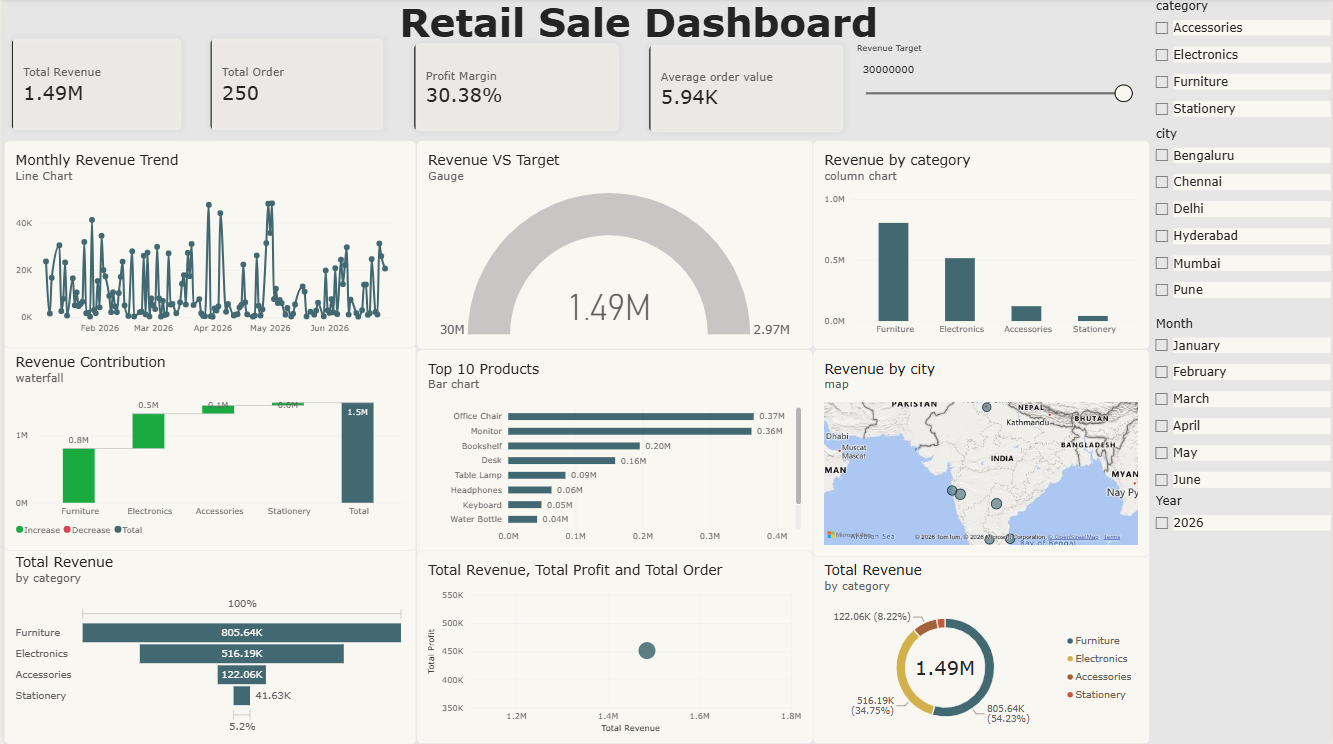

The dashboard page shown, as its layout file describes it:
{"tool":"powerbi","page":{"name":"power bi feature lab","canvas":[1920,1080],"ordinal":7},"visuals":[{"type":"funnel","fields":{"Category":["retail_sales.category"],"Y":["retail_sales.Total Revenue"]},"box":[0,788.3,596.9,292.3],"z":0},{"type":"slicer","fields":{"Values":["Revenue Target.Revenue Target"]},"box":[1226.8,65.9,409.6,140],"z":1000},{"type":"gauge","title":"Revenue VS Target ","fields":{"MinValue":["Revenue Target.Revenue Target Value"],"Y":["retail_sales.Total Revenue"]},"box":[596.9,205.8,574.3,302.6],"z":2000},{"type":"waterfallChart","title":"Revenue Contribution","fields":{"Category":["retail_sales.category"],"Y":["retail_sales.Total Revenue"]},"box":[0,500.2,596.9,300.5],"z":3000},{"type":"lineChart","title":"Monthly Revenue Trend","fields":{"Category":["Date.Date"],"Y":["retail_sales.Total Revenue"]},"box":[0,205.8,596.9,300.5],"z":4000},{"type":"clusteredColumnChart","title":"Revenue by category","fields":{"Category":["retail_sales.category"],"Y":["retail_sales.Total Revenue"]},"box":[1171.2,205.8,487.8,302.6],"z":5000},{"type":"clusteredBarChart","title":"Top 10 Products","fields":{"Category":["retail_sales.product"],"Y":["retail_sales.Total Revenue"]},"box":[596.9,508.4,574.3,300.5],"z":6000},{"type":"donutChart","fields":{"Category":["retail_sales.category"],"Y":["retail_sales.Total Revenue"]},"box":[1171.2,800.7,487.8,279.9],"z":7000},{"type":"map","title":"Revenue by city","fields":{"Category":["retail_sales.city"],"Size":["retail_sales.Total Revenue"]},"box":[1171.2,508.4,487.8,300.5],"z":8000},{"type":"scatterChart","fields":{"Size":["retail_sales.Total Order"],"X":["retail_sales.Total Revenue"],"Y":["Date.Total Profit"]},"box":[596.9,800.7,574.3,279.9],"z":9000},{"type":"slicer","fields":{"Values":["Date.Year"]},"box":[1659,716.3,261.4,94.7],"z":10000},{"type":"slicer","fields":{"Values":["Date.Month"]},"box":[1659,459,261.4,257.3],"z":11000},{"type":"slicer","fields":{"Values":["retail_sales.category"]},"box":[1659,0,261.4,185.2],"z":12000},{"type":"slicer","fields":{"Values":["retail_sales.city"]},"box":[1659,185.2,261.4,273.8],"z":13000},{"type":"textbox","box":[561.9,0,994.2,94.7],"z":14000},{"type":"cardVisual","fields":{"Data":["retail_sales.Total Revenue"]},"box":[0,47.3,269.6,156.4],"z":15000},{"type":"cardVisual","fields":{"Data":["retail_sales.Total Order"]},"box":[288.2,47.3,273.8,156.4],"z":16000},{"type":"cardVisual","fields":{"Data":["Date.Profit Margin"]},"box":[582.5,53.5,319,150.3],"z":17000},{"type":"cardVisual","fields":{"Data":["retail_sales.Average order value"]},"box":[922.1,55.6,304.6,150.3],"z":18000}]}

Visuals, with their boxes in screenshot pixels (x1, y1, x2, y2), scaled from the page's 1920x1080 canvas onto the 1333x744 screenshot:
funnel - retail_sales.category x retail_sales.Total Revenue: 0/543/414/743
slicer - Revenue Target.Revenue Target: 852/45/1136/142
"Revenue VS Target " gauge: 414/142/813/350
"Revenue Contribution" waterfallChart: 0/345/414/552
"Monthly Revenue Trend" lineChart: 0/142/414/349
"Revenue by category" clusteredColumnChart: 813/142/1152/350
"Top 10 Products" clusteredBarChart: 414/350/813/557
donutChart - retail_sales.category x retail_sales.Total Revenue: 813/552/1152/743
"Revenue by city" map: 813/350/1152/557
scatterChart - retail_sales.Total Order x retail_sales.Total Revenue: 414/552/813/743
slicer - Date.Year: 1152/493/1332/559
slicer - Date.Month: 1152/316/1332/493
slicer - retail_sales.category: 1152/0/1332/128
slicer - retail_sales.city: 1152/128/1332/316
textbox: 390/0/1080/65
cardVisual - retail_sales.Total Revenue: 0/33/187/140
cardVisual - retail_sales.Total Order: 200/33/390/140
cardVisual - Date.Profit Margin: 404/37/626/140
cardVisual - retail_sales.Average order value: 640/38/852/142
